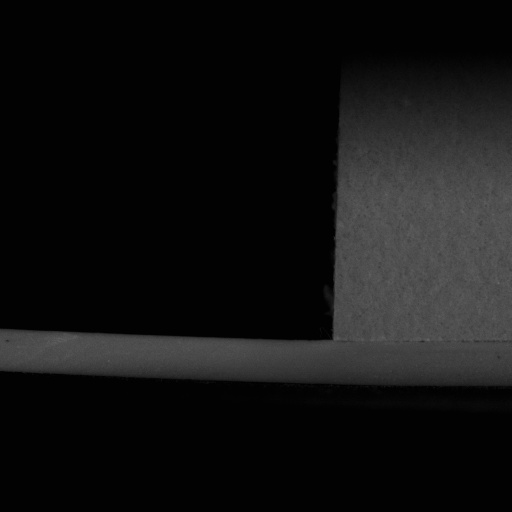changdai: (0, 329, 334, 384)
